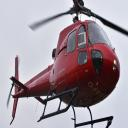helicopter: (8, 1, 127, 128)
